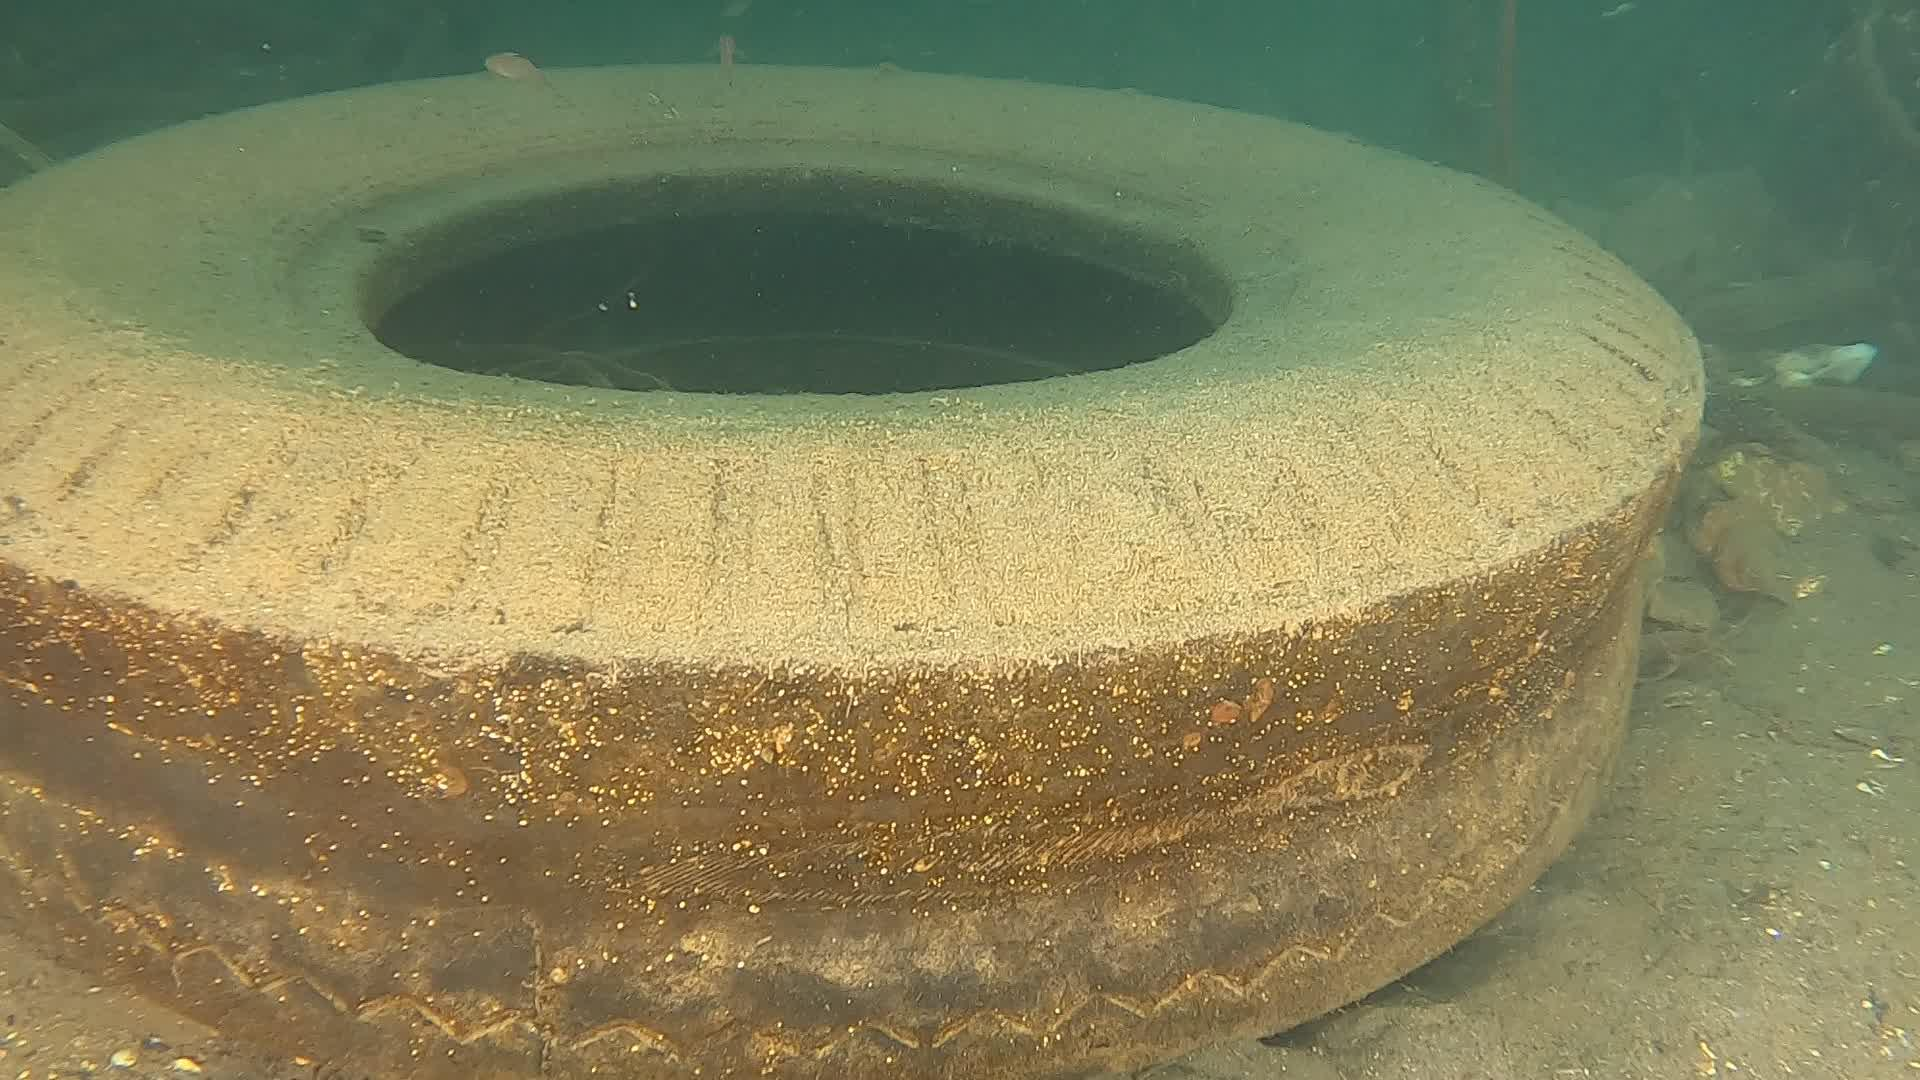tire: (0, 57, 1709, 1080)
